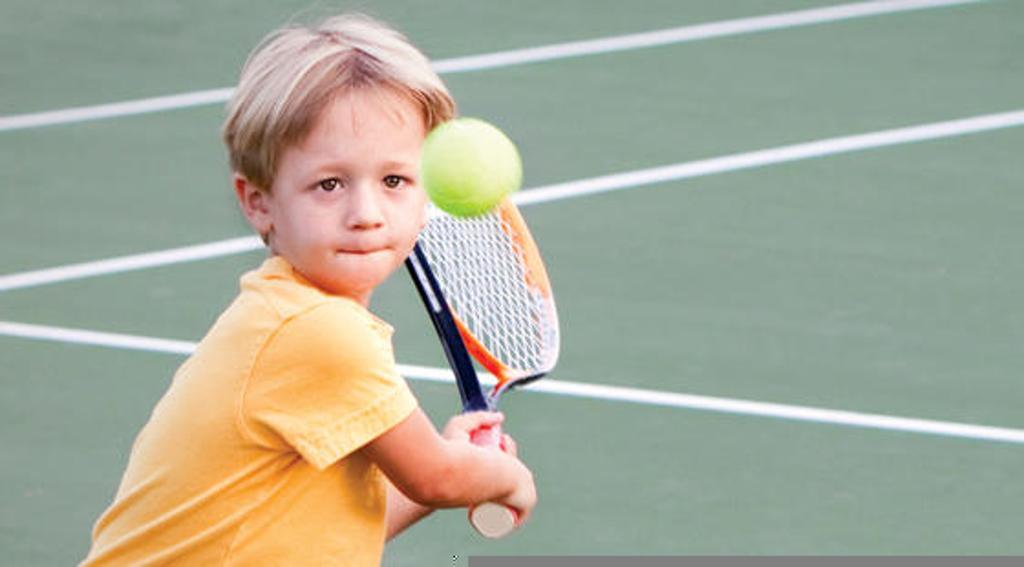face: (272, 84, 424, 288)
